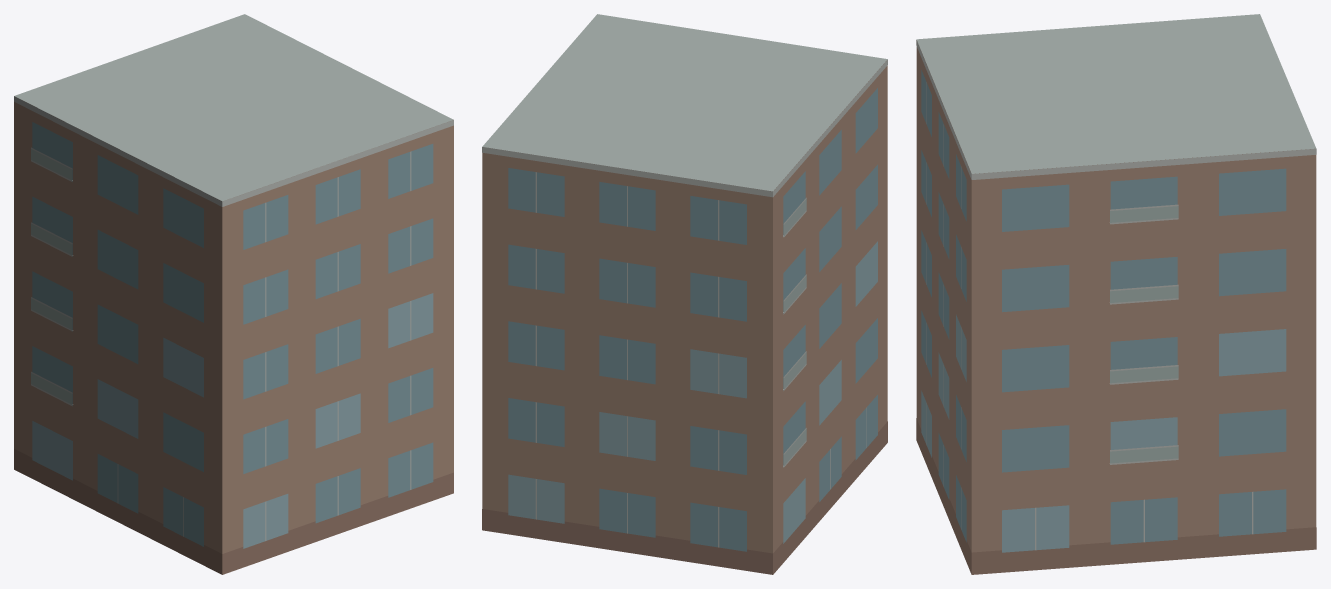
The model's file is survey-upis-32878760.glb.
The picture shows the model from 3 angles, left to right: view 1: azimuth 30°, elevation 25°; view 2: azimuth 150°, elevation 25°; view 3: azimuth 270°, elevation 25°; orthographic projection. The views are drawn at different scales.
Parts seen in each view (by area): view 1: survey-upis-32878760.tmp; view 2: survey-upis-32878760.tmp; view 3: survey-upis-32878760.tmp.
Part boxes in pixels (x1,y1,x2,y2): survey-upis-32878760.tmp: [14, 14, 453, 574]; survey-upis-32878760.tmp: [482, 14, 887, 574]; survey-upis-32878760.tmp: [916, 14, 1316, 574].
Size of the model in its own units: 13.62 by 15.9 by 14.39.
